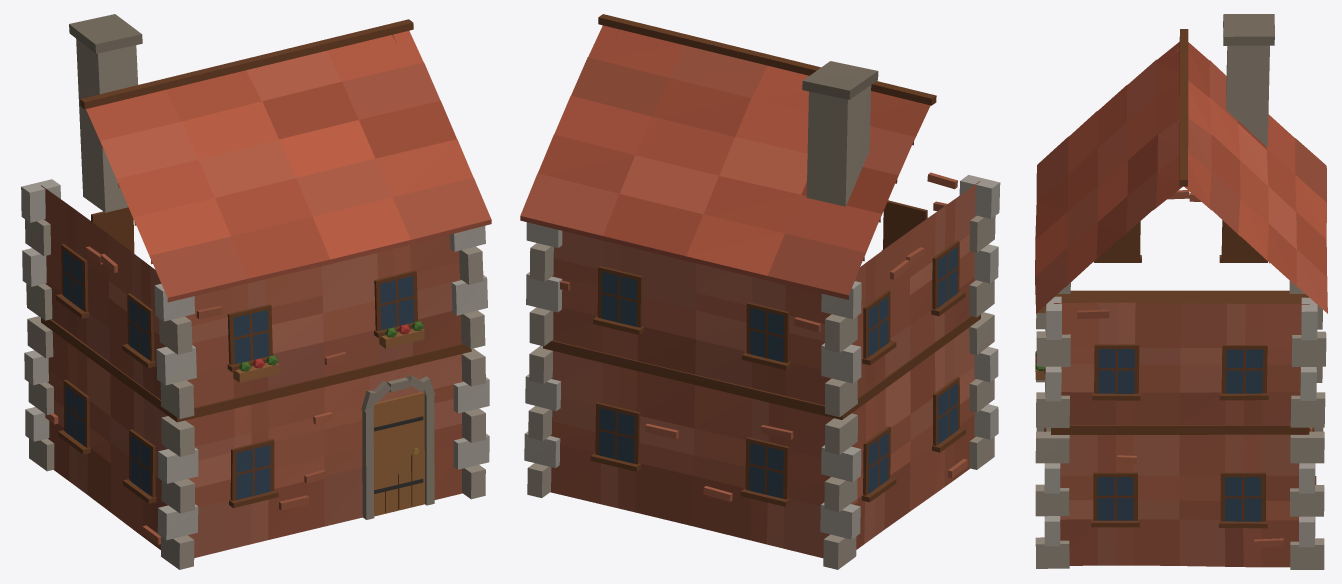
The model's file is brick-house.glb.
3 renders of one model, left to right at view 1: azimuth 30°, elevation 25°; view 2: azimuth 150°, elevation 25°; view 3: azimuth 270°, elevation 25°, orthographic. The views are drawn at different scales.
Parts seen in each view (by area): view 1: buildings/brick-house; view 2: buildings/brick-house; view 3: buildings/brick-house.
Part boxes in pixels (<box>): buildings/brick-house: <box>21,14,491,569</box>; buildings/brick-house: <box>520,14,1000,569</box>; buildings/brick-house: <box>1035,14,1327,569</box>.
Size of the model in its own units: 5.99 by 7.71 by 4.84.
